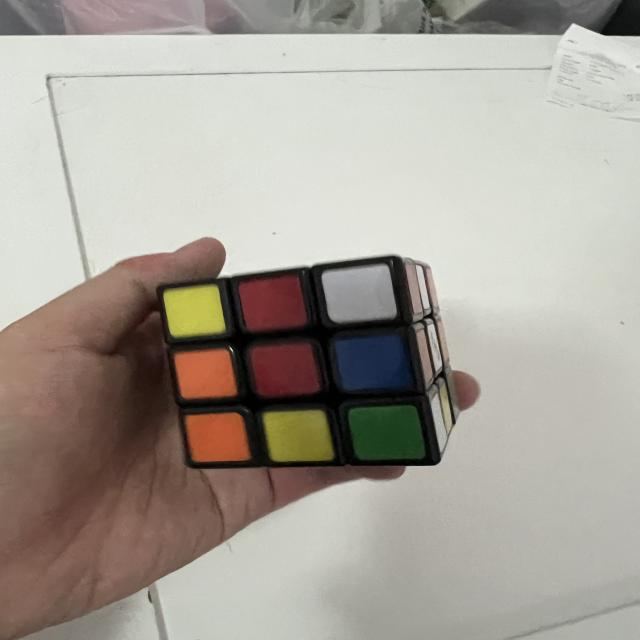blue: (333, 334, 408, 391)
center: (249, 342, 319, 395)
green: (348, 405, 425, 458)
orange: (174, 343, 237, 405), (186, 413, 250, 461)
red: (238, 276, 307, 330)
white: (322, 263, 399, 323)
yellow: (264, 409, 334, 462), (163, 284, 226, 337)
